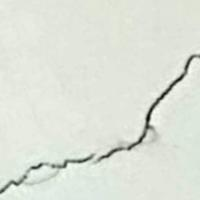crack: (0, 48, 199, 191)
